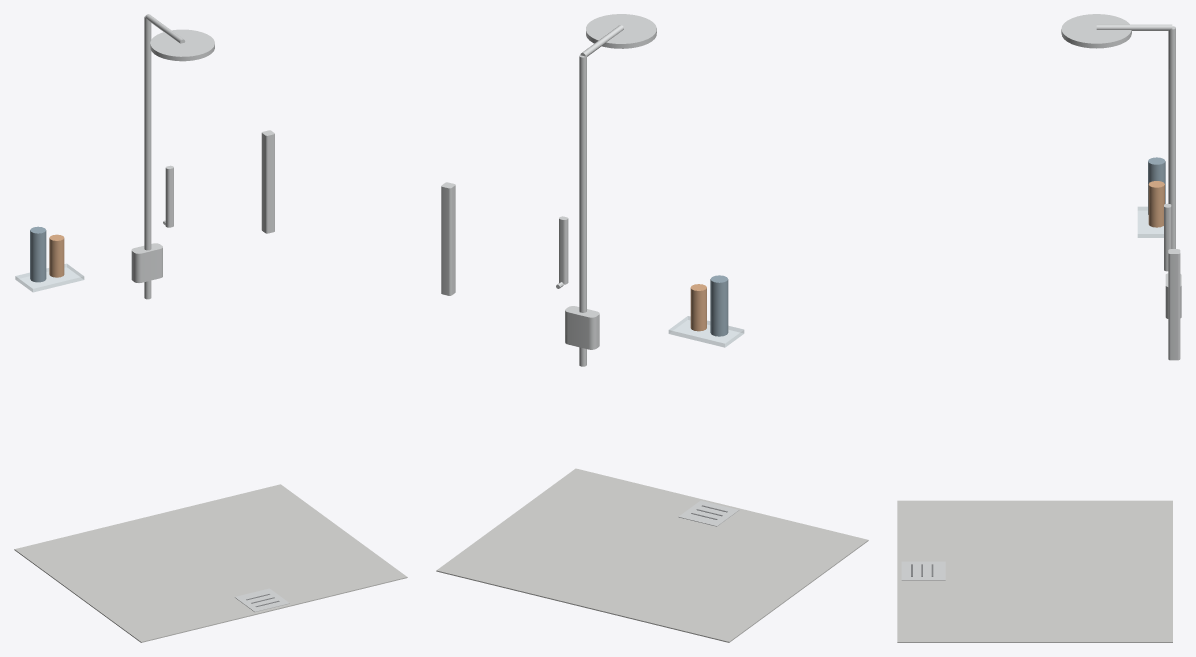
The picture shows the model from 3 angles, left to right: view 1: azimuth 30°, elevation 25°; view 2: azimuth 150°, elevation 25°; view 3: azimuth 270°, elevation 25°; orthographic projection. The views are drawn at different scales.
Visible parts, largest first — view 1: Sen tắm Rộng=1200; Sâu=1000; view 2: Sen tắm Rộng=1200; Sâu=1000; view 3: Sen tắm Rộng=1200; Sâu=1000.
Boxes of the visible parts, x1,y1,x2,y2 form: Sen tắm Rộng=1200; Sâu=1000: (14,14,407,642); Sen tắm Rộng=1200; Sâu=1000: (436,14,868,642); Sen tắm Rộng=1200; Sâu=1000: (897,14,1181,642).
Bounding box in the file's own units: 1.14 × 2.06 × 0.97.
